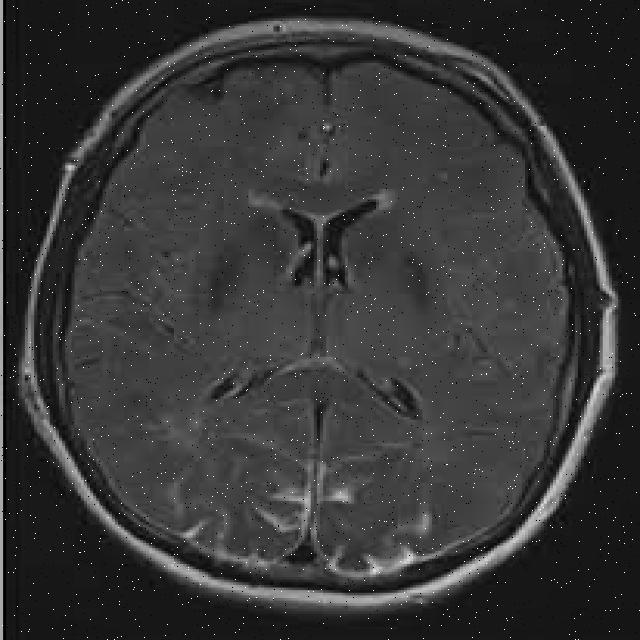No_Tumor: (21, 18, 617, 611)
